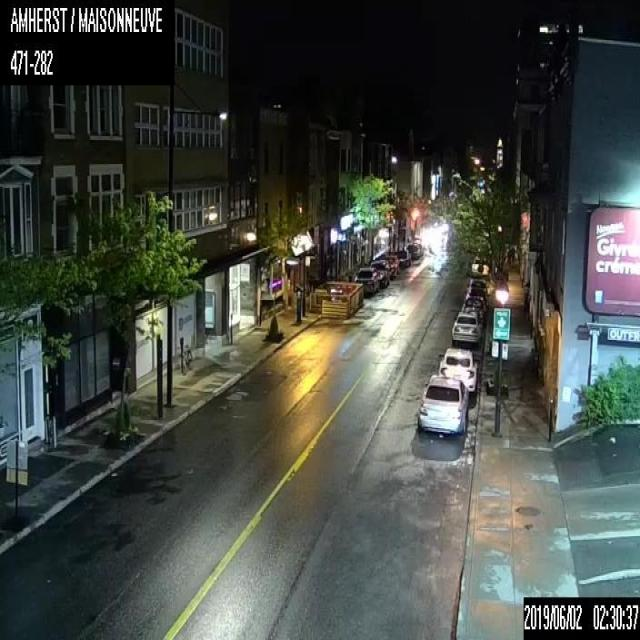vehicle: (416, 374, 468, 435), (438, 347, 478, 395), (451, 310, 482, 346), (461, 295, 486, 325), (354, 266, 378, 294), (369, 259, 389, 287), (464, 286, 489, 308), (380, 254, 399, 277), (394, 249, 411, 267), (466, 277, 488, 290), (406, 242, 423, 258)
